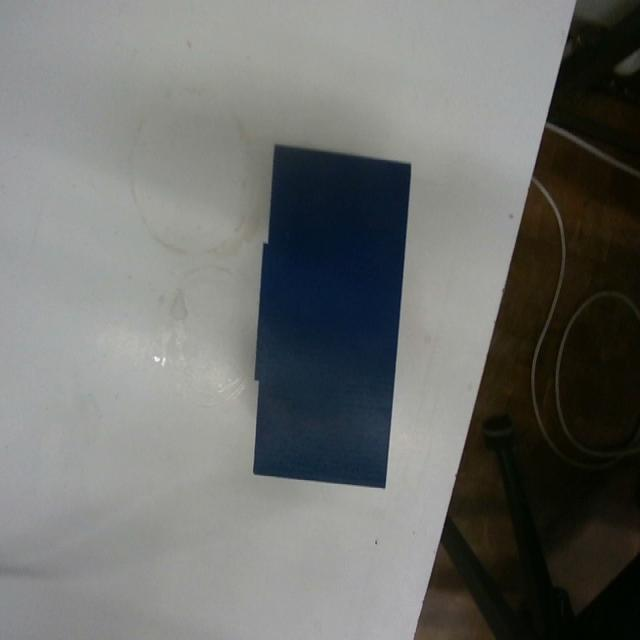Blue Cuboid: (250, 140, 412, 491)
